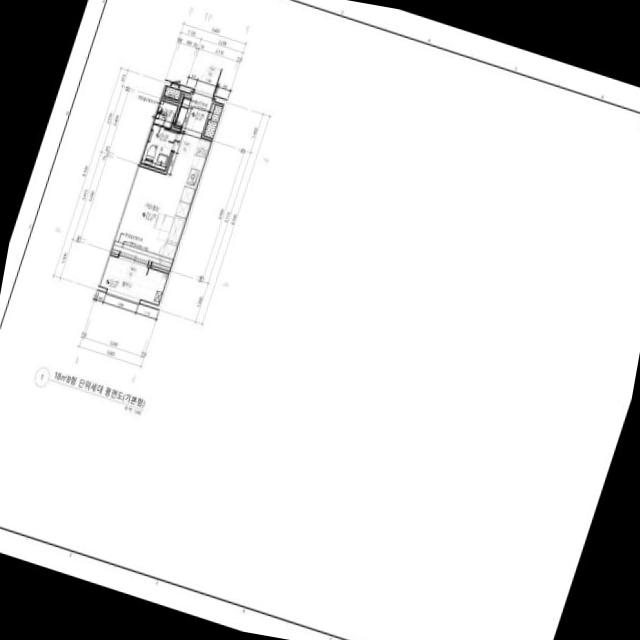background: (0, 0, 640, 640)
space_balconi: (100, 255, 167, 305)
space_bedroom: (112, 132, 199, 267)
space_front: (174, 89, 214, 138)
space_kitchen: (184, 139, 210, 189)
space_other: (204, 105, 222, 138), (164, 87, 180, 99), (154, 291, 162, 302)
space_toilet: (141, 101, 177, 170)
